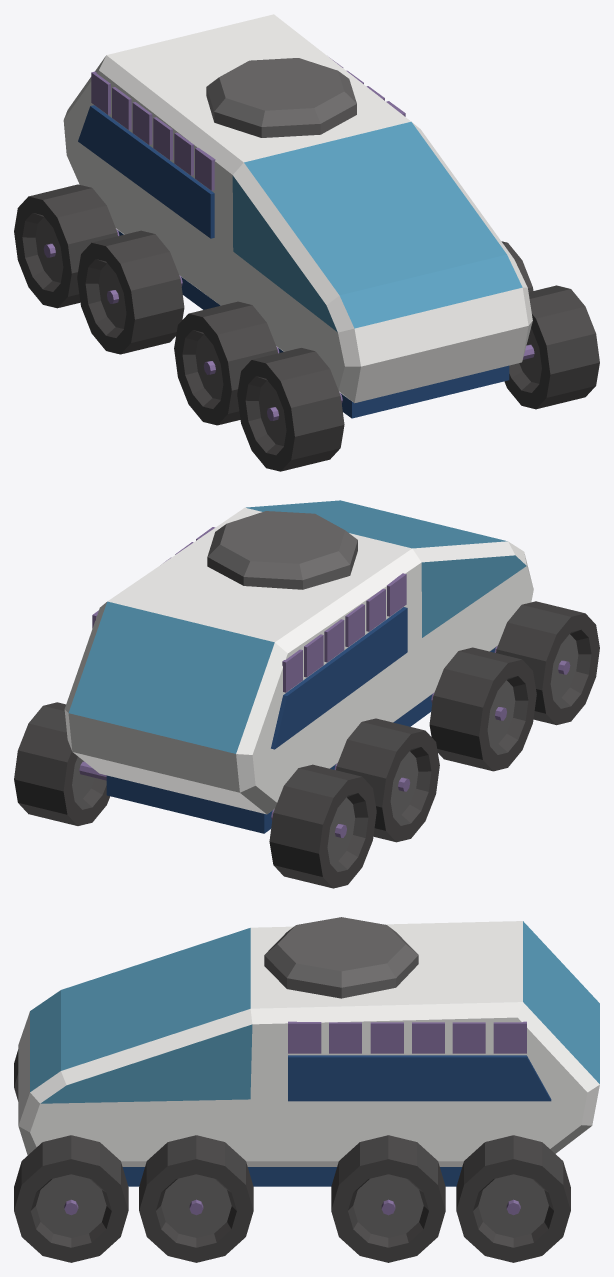
File: Isl_19_Moonrover.fbx
3 renders of one model, top to bottom at view 1: azimuth 30°, elevation 25°; view 2: azimuth 150°, elevation 25°; view 3: azimuth 270°, elevation 25°, orthographic.
Parts seen in each view (by area): view 1: Isl_19_Moonrover; view 2: Isl_19_Moonrover; view 3: Isl_19_Moonrover.
Part boxes in pixels (x1,y1,x2,y2): Isl_19_Moonrover: [14, 14, 599, 471]; Isl_19_Moonrover: [14, 500, 599, 888]; Isl_19_Moonrover: [14, 917, 599, 1262].
Size of the model in its own units: 364 by 612 by 282.
Materials: 1 (1 with a texture image).
